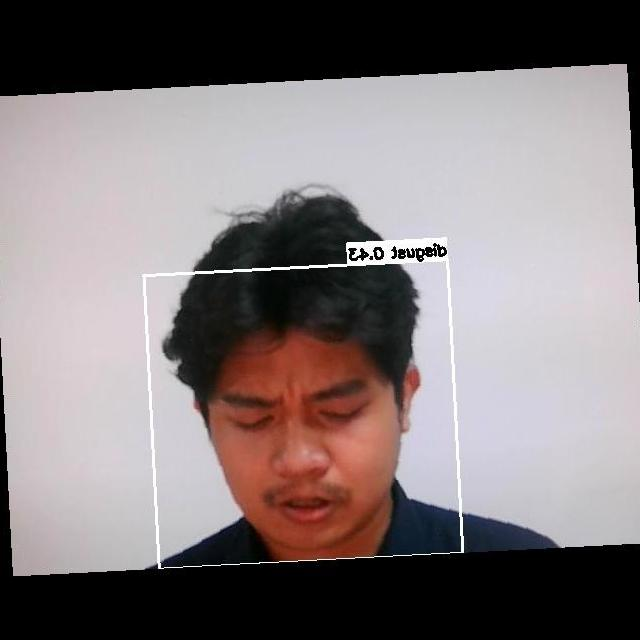Angry: (195, 354, 422, 548)
